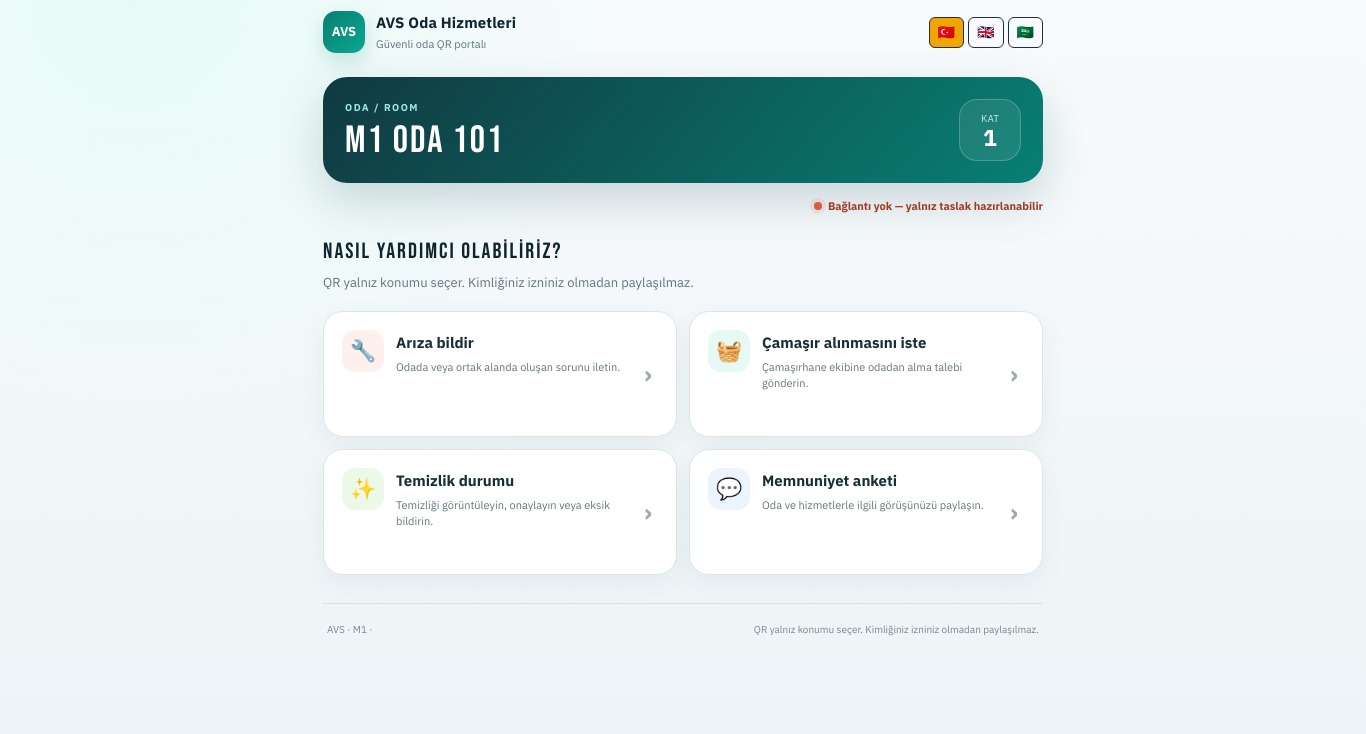
Test: RoomPortalPage › anonim eksik değerlendirmesini çevrimdışında yalnız yerel taslak olarak tutar
The image size is (1366, 734).
Click the button "Temizlik durumu" at (500,512), box [323, 448, 677, 574]
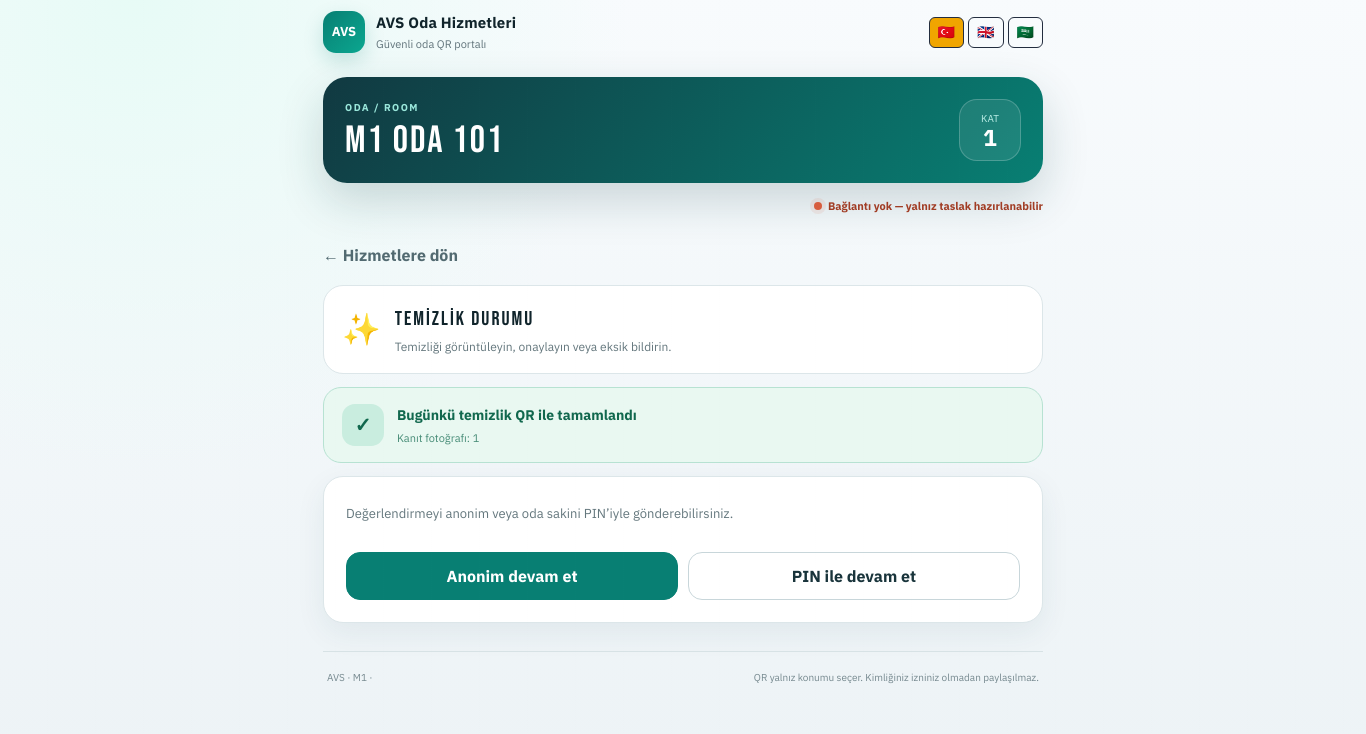
Click the button "Anonim devam et" at (512,576), box [346, 552, 678, 600]
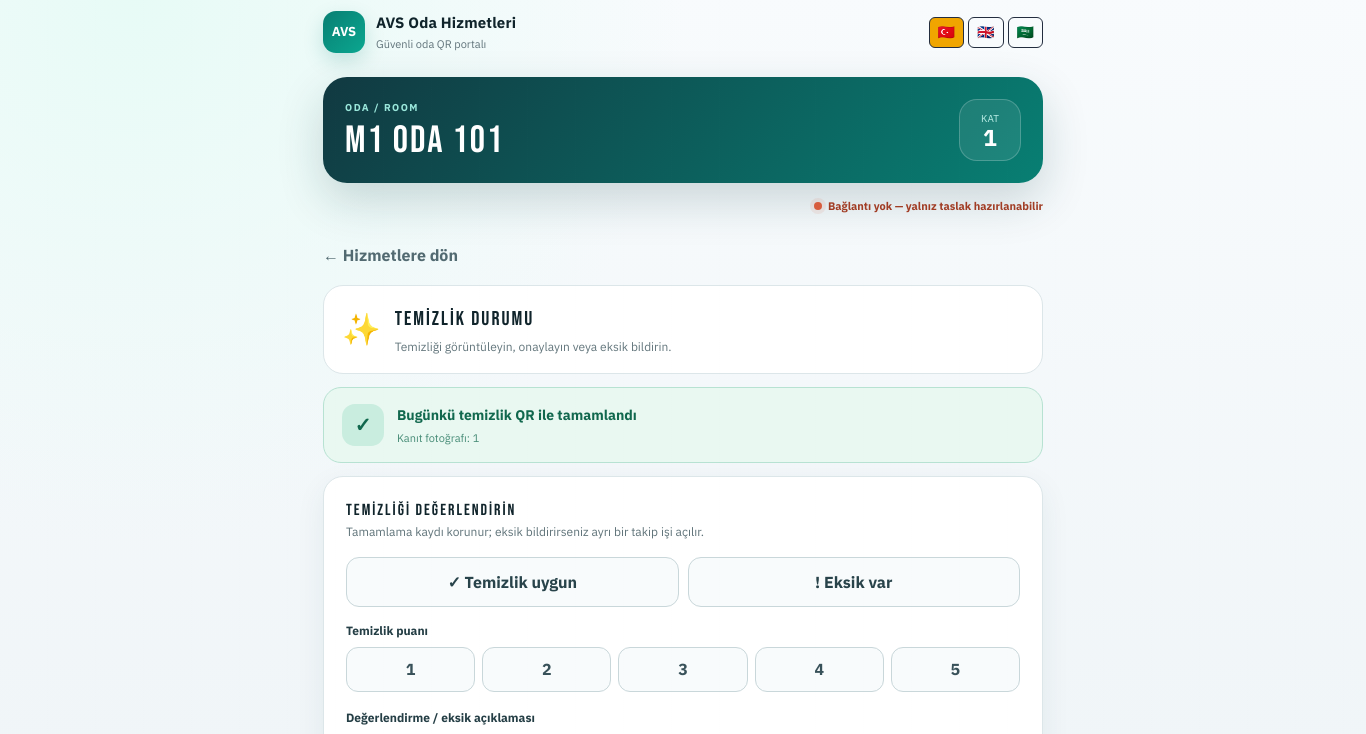
Click the button "! Eksik var" at (854,582), box [688, 557, 1020, 607]
(page scrolled)
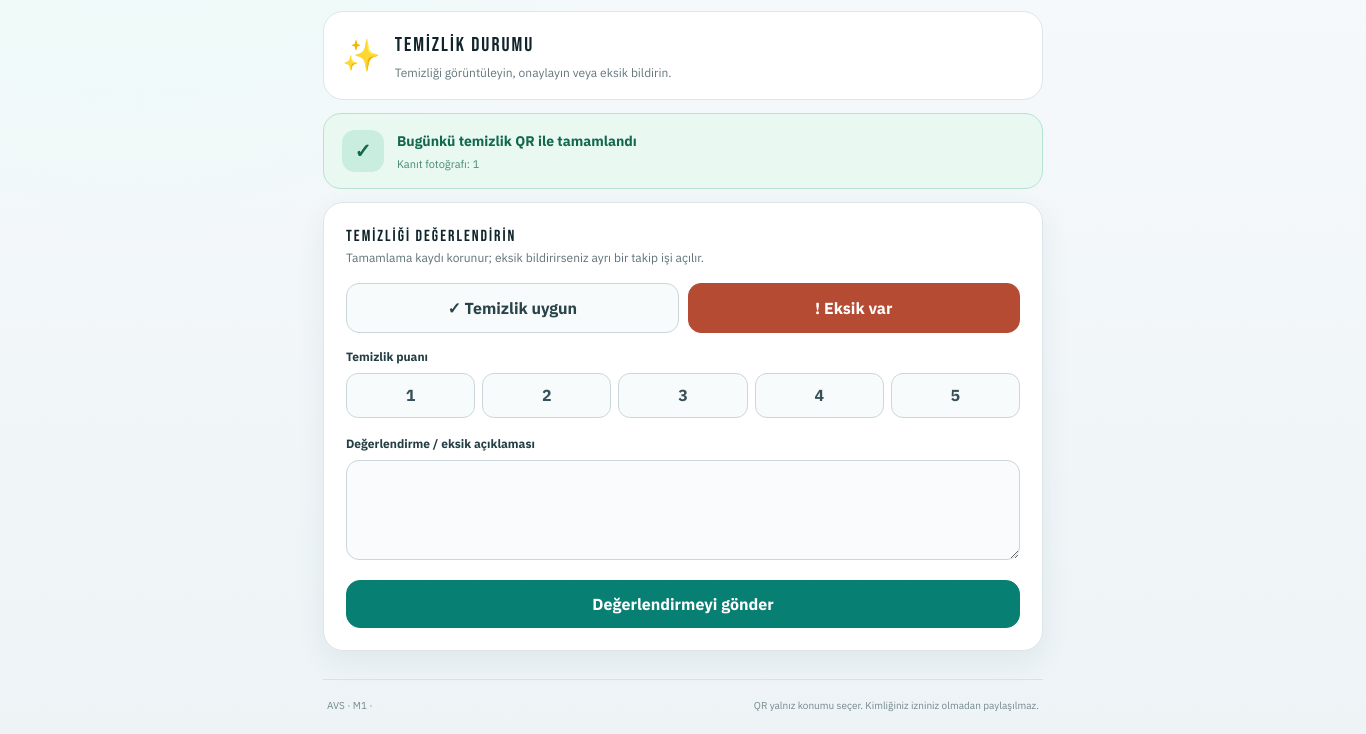
Type "Lavabo tekrar temizlenmeli" into the text box labelled "Değerlendirme / eksik açıklaması" at (683,510), box [346, 460, 1020, 560]
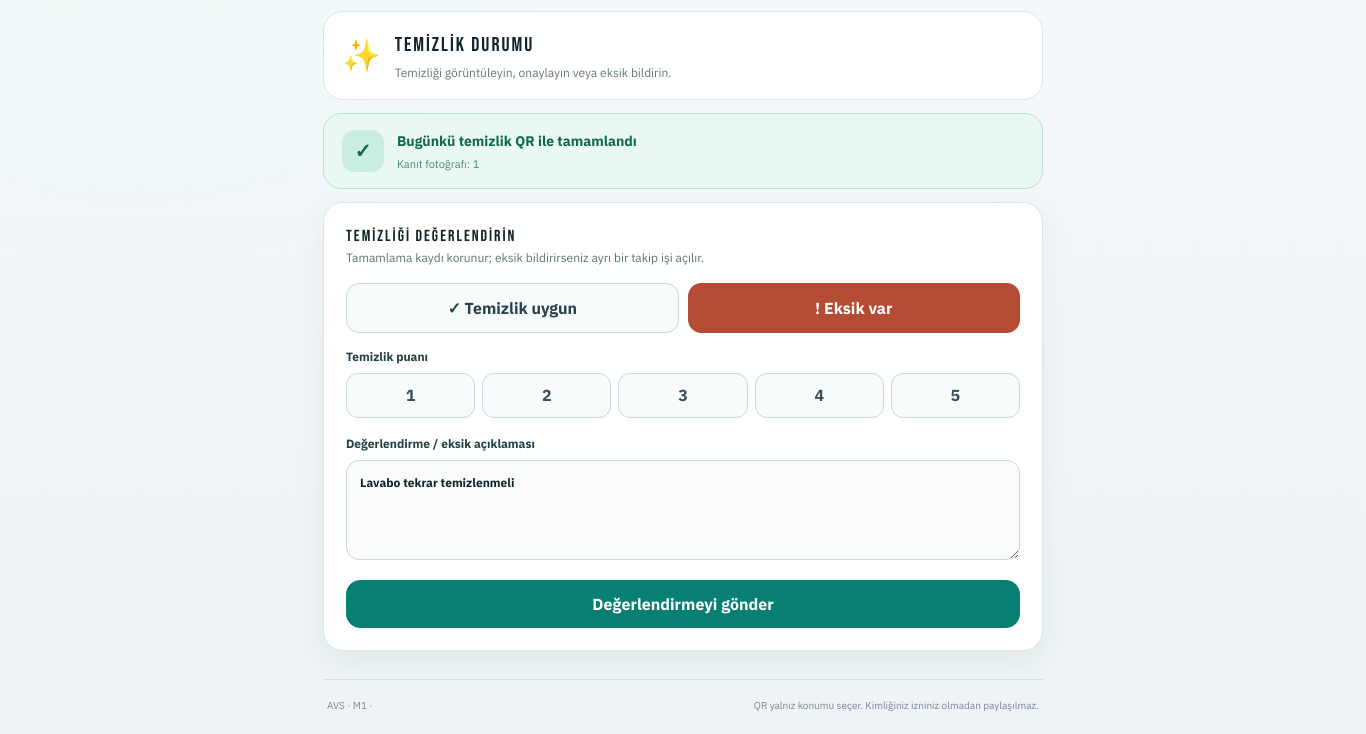
Click the button "Değerlendirmeyi gönder" at (683,604), box [346, 580, 1020, 628]
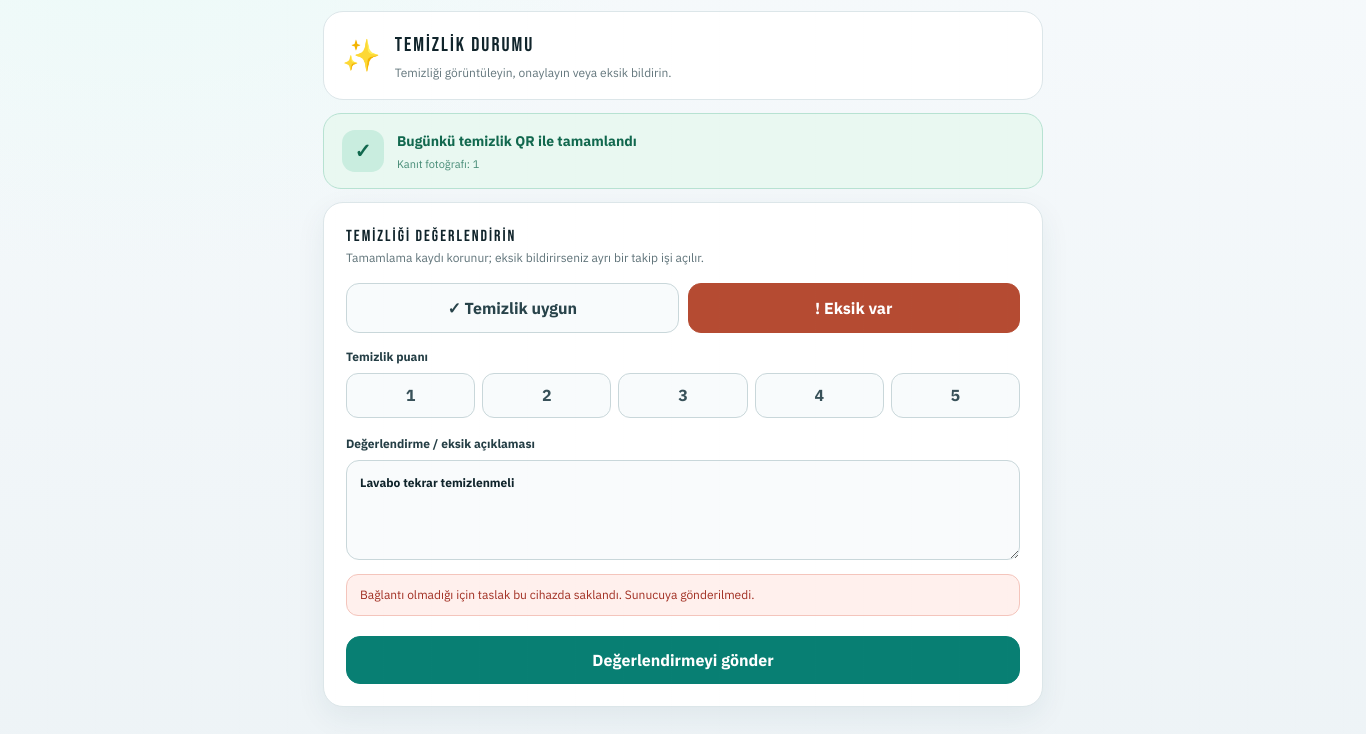
Check: the message shows "Sunucuya gönderilmedi", box [360, 587, 754, 602]
